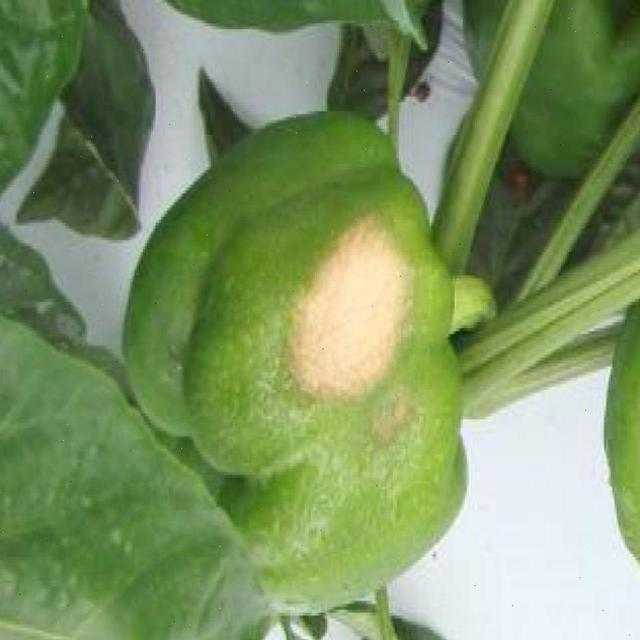Sunscald Fruit: (194, 131, 282, 297)
